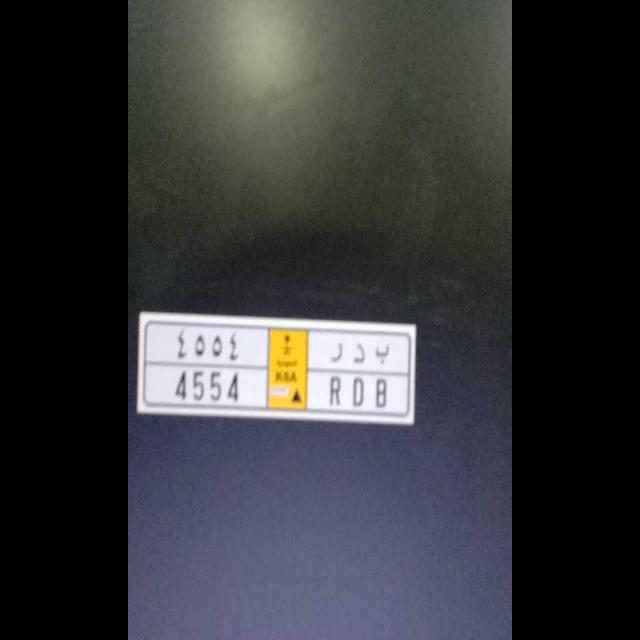license_plate: (142, 370, 404, 412)
